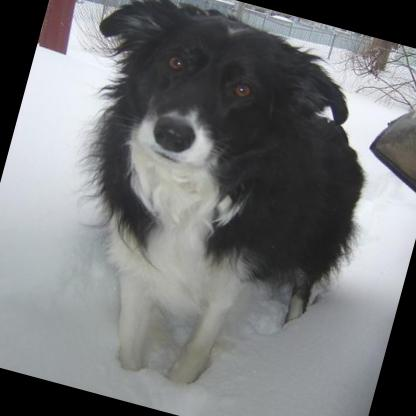Border_collie: (7, 0, 407, 416)
